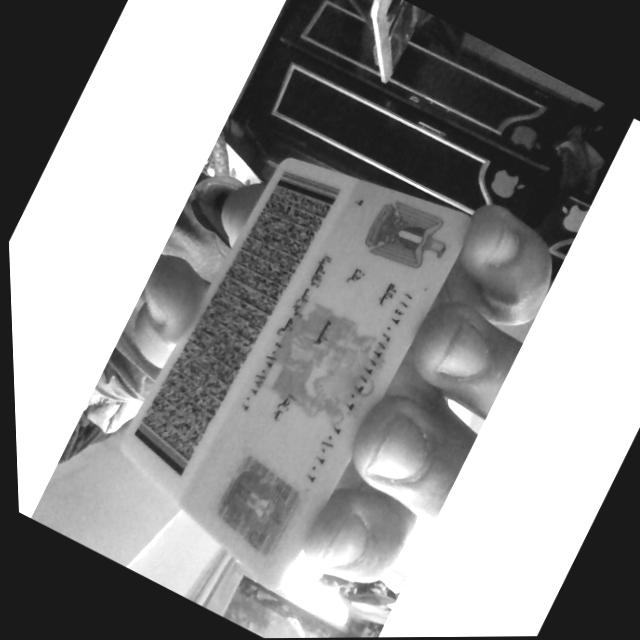id_card: (122, 158, 470, 588)
